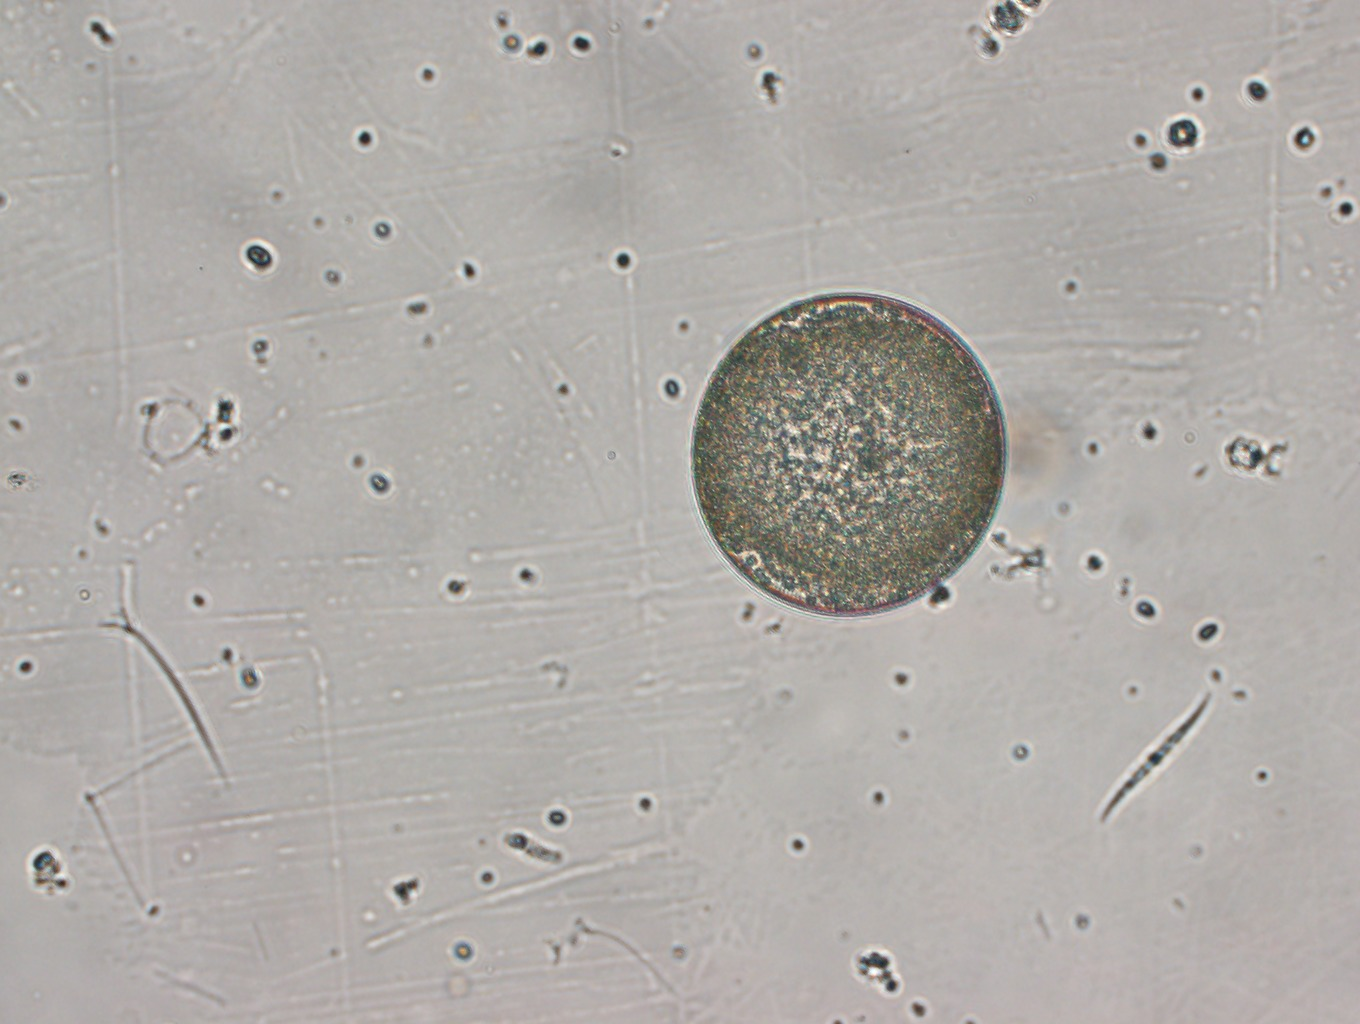coscinodiscus: (689, 290, 1010, 618)
